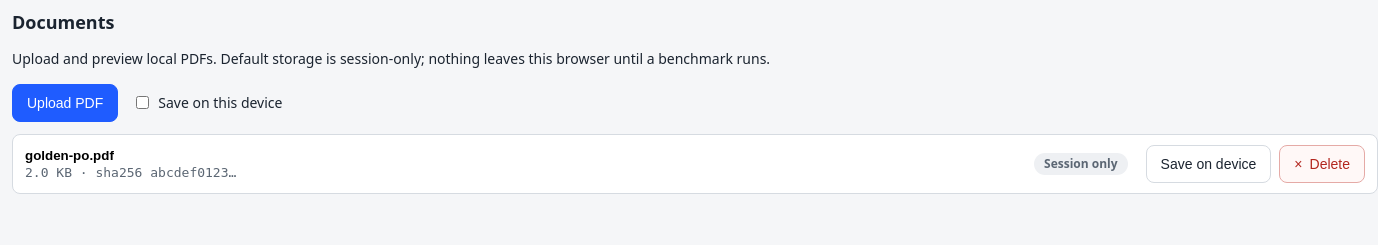
Test: DocumentsPage › deletes a document via the Delete button and shows confirmation
This screenshot has width=1378, height=245.
Click the button "× Delete". click: (1322, 164)
box: 1279,145 -> 1365,183
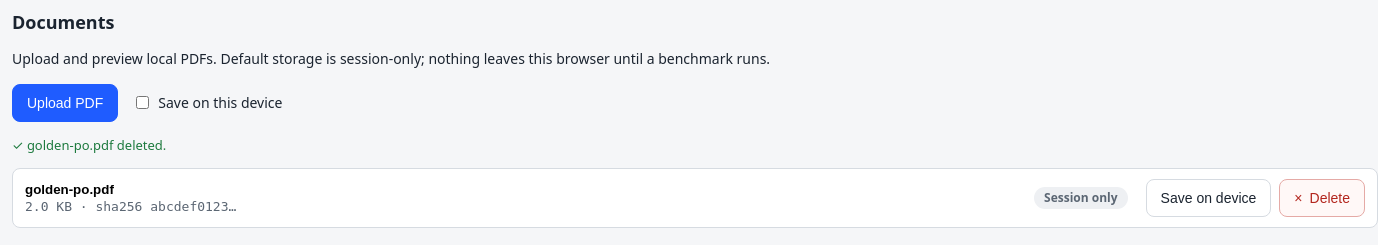
Result: the text "✓ golden-po.pdf deleted." is shown at 12,136 -> 166,154
